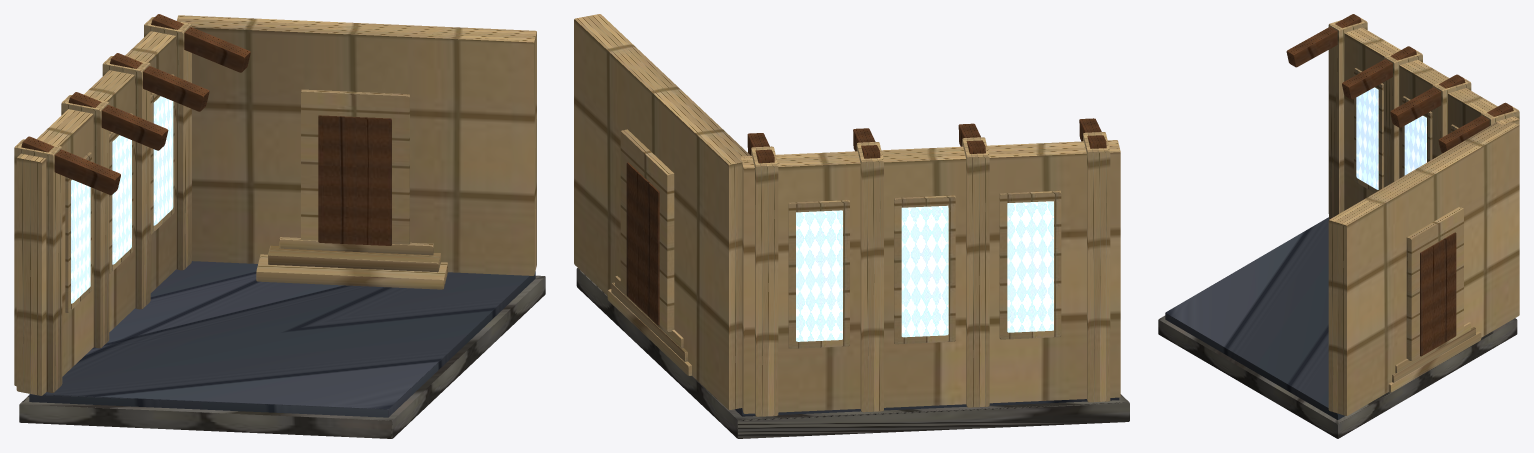
Rendered from env_castle_greathall.glb.
3 views of the same model, side by side, from view 1: azimuth 30°, elevation 25°; view 2: azimuth 150°, elevation 25°; view 3: azimuth 270°, elevation 25° (orthographic). The views are drawn at different scales.
Parts seen in each view (by area): view 1: GH_WallR, GH_Floor, GH_WallL, GH_Floor_Rim, GH_PortalDoor, GH_PortalArch, GH_Pilaster_0.06, GH_Pilaster_0.38, GH_Pilaster_0.94, GH_Pilaster_0.66, GH_Dais_0, GH_Dais_1 (+11 smaller); view 2: GH_WallL, GH_WallR, GH_Floor_Rim, GH_Pilaster_0.06, GH_Pilaster_0.38, GH_Pilaster_0.66, GH_Pilaster_0.94, GH_WinGlass_1, GH_WinGlass_2, GH_WinGlass_0, GH_PortalArch, GH_PortalDoor (+10 smaller); view 3: GH_WallR, GH_Floor, GH_Floor_Rim, GH_WallL, GH_PortalDoor, GH_PortalArch, GH_Pilaster_0.06, GH_WinGlass_0, GH_Pilaster_0.38, GH_Truss_0.66, GH_Truss_0.06, GH_Truss_0.38 (+8 smaller).
Part boxes in pixels (left/top/right/bottom): GH_WallR: left=177, top=15, right=536, bottom=275; GH_Floor: left=29, top=261, right=535, bottom=417; GH_WallL: left=16, top=21, right=182, bottom=395; GH_Floor_Rim: left=19, top=275, right=545, bottom=438; GH_PortalDoor: left=318, top=115, right=391, bottom=245; GH_PortalArch: left=301, top=89, right=409, bottom=244; GH_Pilaster_0.06: left=14, top=139, right=62, bottom=392; GH_Pilaster_0.38: left=61, top=95, right=109, bottom=348; GH_Pilaster_0.94: left=144, top=17, right=191, bottom=270; GH_Pilaster_0.66: left=102, top=56, right=150, bottom=309; GH_Dais_0: left=256, top=254, right=447, bottom=289; GH_Dais_1: left=268, top=245, right=440, bottom=272; GH_WallL: left=741, top=140, right=1120, bottom=413; GH_WallR: left=574, top=14, right=750, bottom=409; GH_Floor_Rim: left=576, top=268, right=1129, bottom=438; GH_Pilaster_0.06: left=1083, top=132, right=1110, bottom=402; GH_Pilaster_0.38: left=962, top=137, right=989, bottom=407; GH_Pilaster_0.66: left=856, top=142, right=883, bottom=412; GH_Pilaster_0.94: left=751, top=146, right=778, bottom=416; GH_WinGlass_1: left=901, top=205, right=948, bottom=337; GH_WinGlass_2: left=796, top=210, right=842, bottom=341; GH_WinGlass_0: left=1007, top=201, right=1053, bottom=332; GH_PortalArch: left=620, top=129, right=674, bottom=332; GH_PortalDoor: left=626, top=162, right=659, bottom=325; GH_WallR: left=1328, top=122, right=1519, bottom=415; GH_Floor: left=1165, top=217, right=1344, bottom=419; GH_Floor_Rim: left=1158, top=315, right=1517, bottom=438; GH_WallL: left=1328, top=20, right=1519, bottom=213; GH_PortalDoor: left=1420, top=232, right=1456, bottom=356; GH_PortalArch: left=1406, top=207, right=1463, bottom=360; GH_Pilaster_0.06: left=1329, top=18, right=1367, bottom=219; GH_WinGlass_0: left=1356, top=87, right=1378, bottom=189; GH_Pilaster_0.38: left=1384, top=50, right=1422, bottom=187; GH_Truss_0.66: left=1390, top=74, right=1465, bottom=127; GH_Truss_0.06: left=1286, top=14, right=1361, bottom=67; GH_Truss_0.38: left=1342, top=46, right=1416, bottom=99.
Size of the model in its own units: 7.9 by 3.88 by 5.76.
4 materials, 4 textured.
